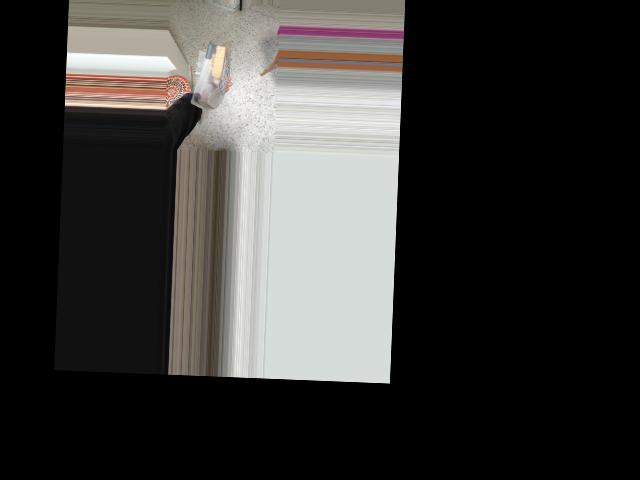cheese: (188, 41, 232, 109)
